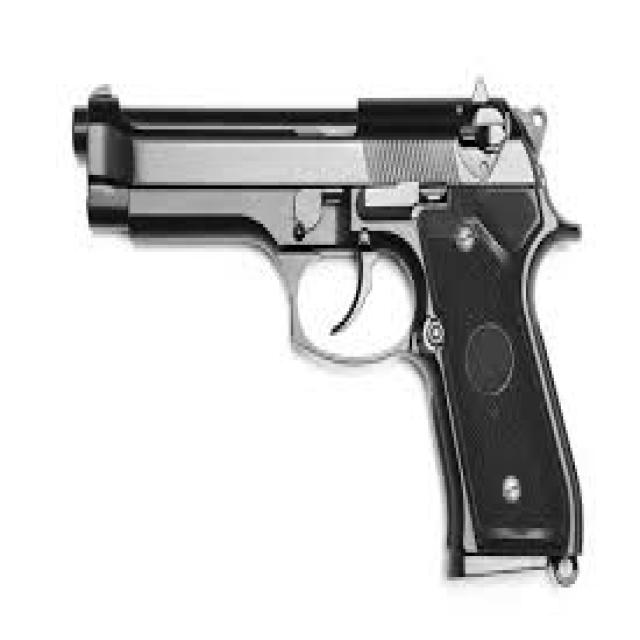gun: (70, 73, 584, 588)
